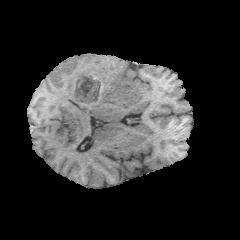glioma: (58, 56, 150, 119)
